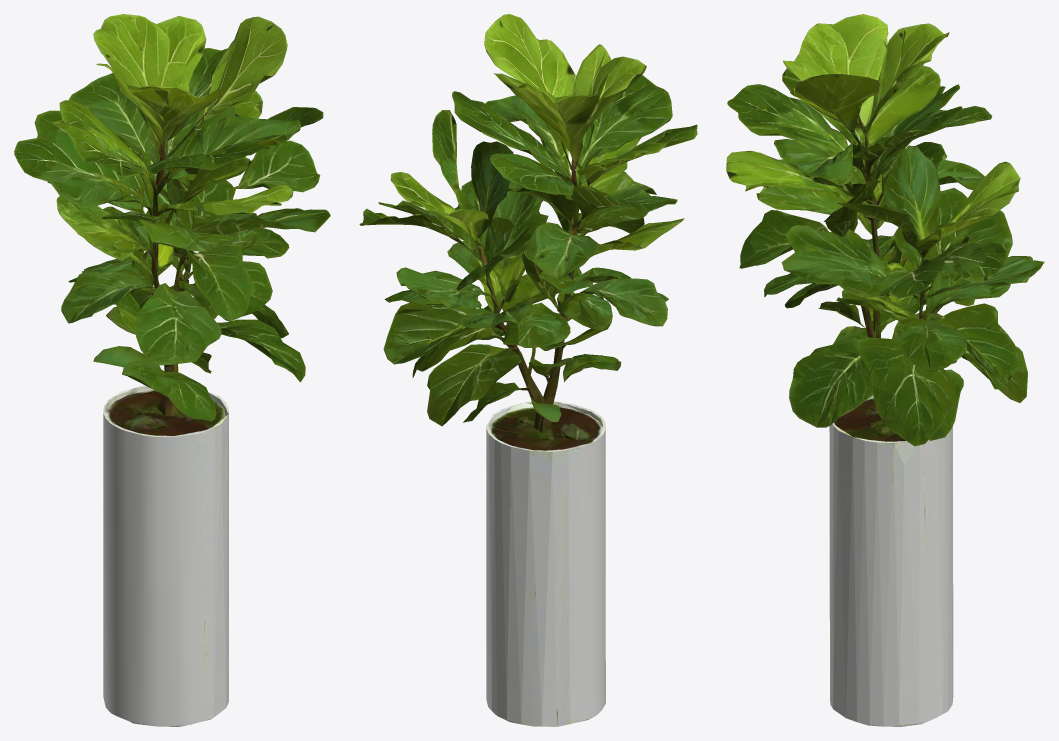
The model's file is planter.glb.
The picture shows the model from 3 angles, left to right: view 1: azimuth 30°, elevation 25°; view 2: azimuth 150°, elevation 25°; view 3: azimuth 270°, elevation 25°; orthographic projection. The views are drawn at different scales.
Bounding box in the file's own units: 0.8717 × 1.9 × 0.823.
1 material, 1 textured.
